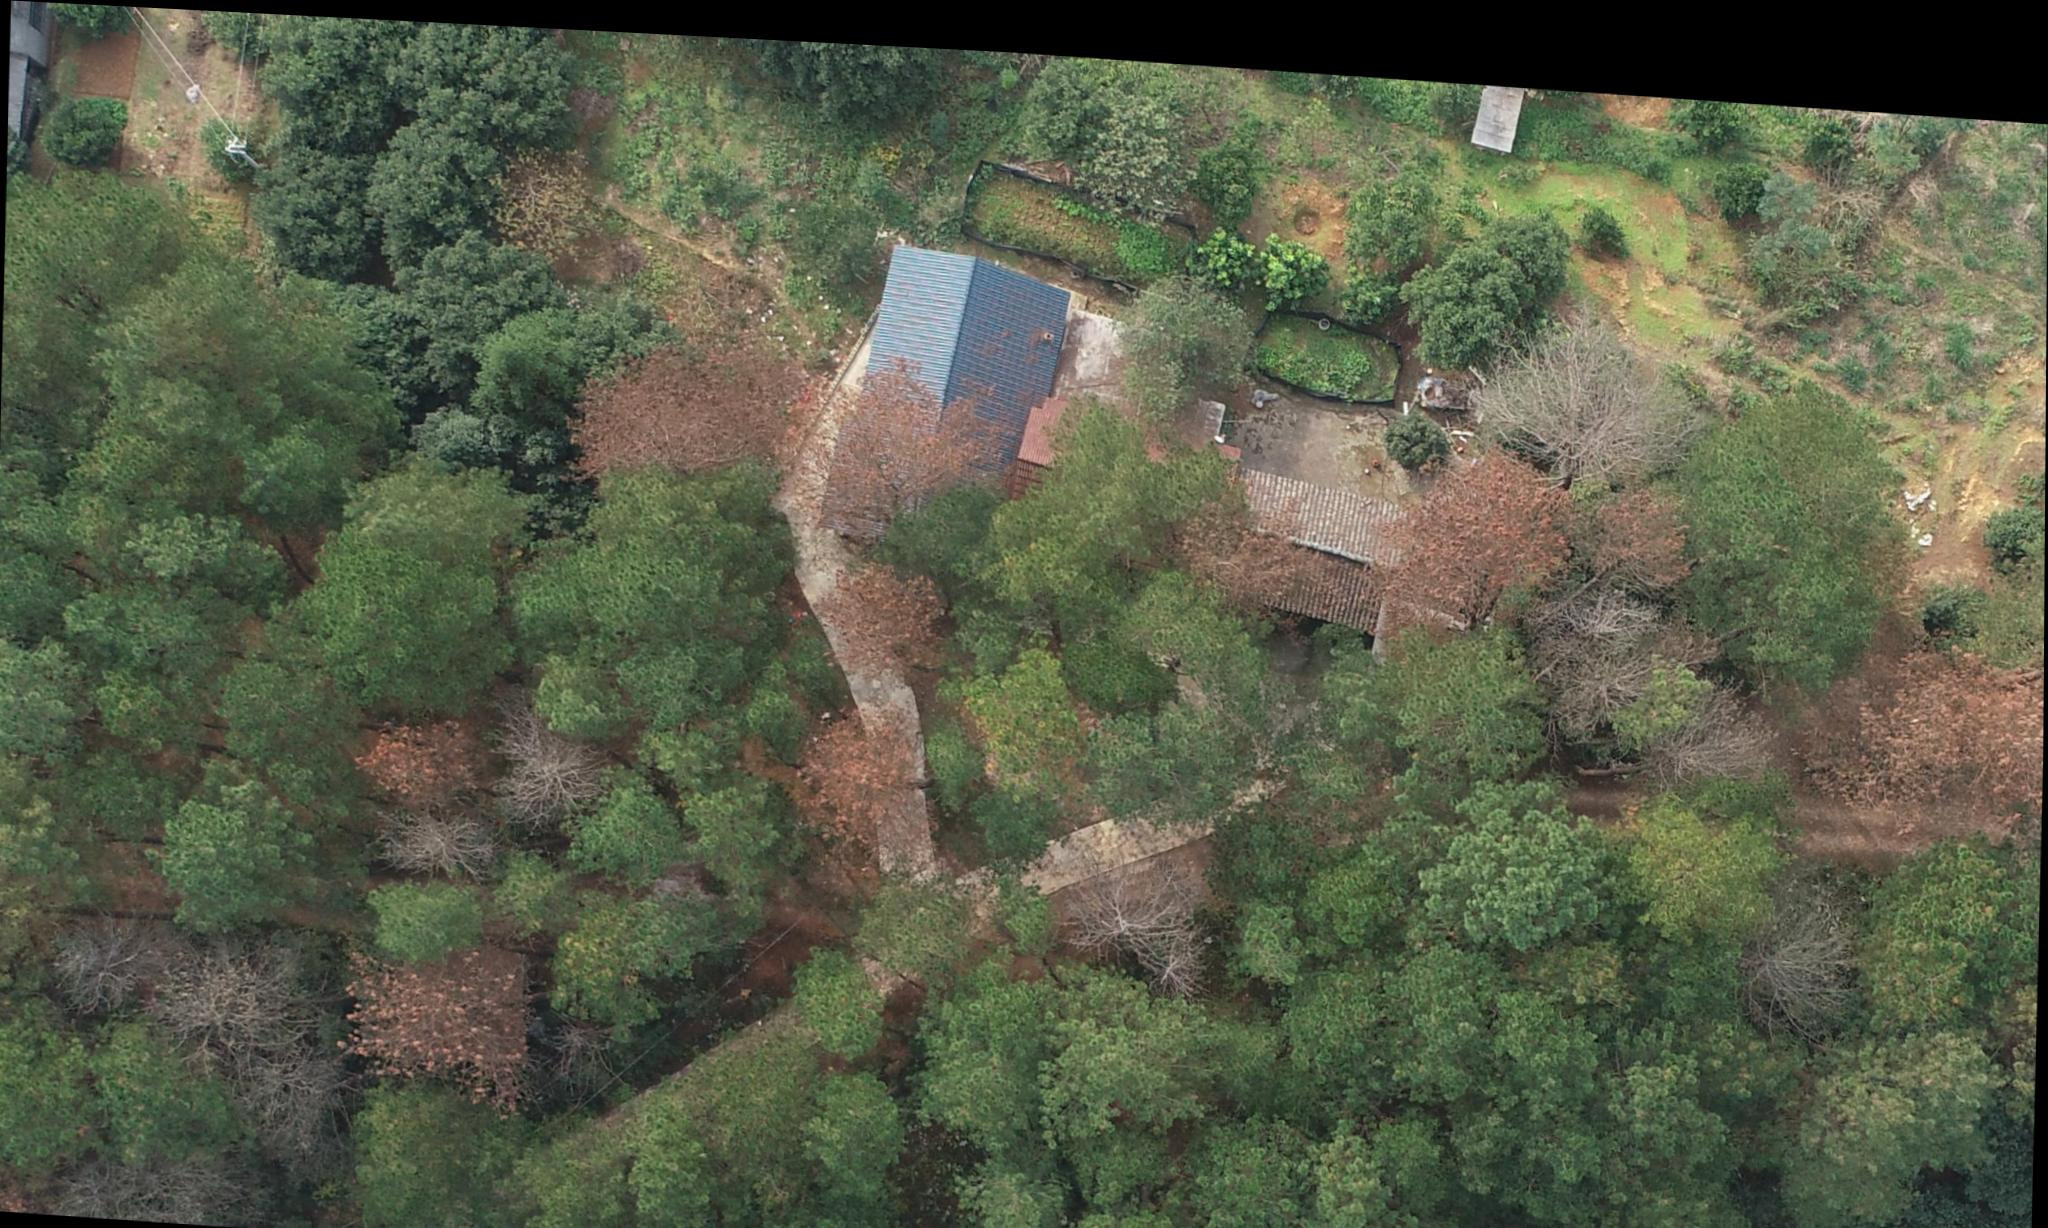dead: (1476, 310, 1675, 453), (1532, 577, 1647, 709), (168, 963, 325, 1054), (1741, 898, 1851, 1022), (67, 1165, 270, 1227), (501, 724, 610, 825), (45, 928, 153, 1007), (250, 1061, 345, 1146), (370, 817, 503, 876)
heavy: (573, 322, 800, 490), (813, 367, 1006, 538), (1874, 639, 2045, 817), (1380, 437, 1564, 602), (765, 709, 952, 861), (354, 958, 531, 1085), (817, 556, 953, 671), (346, 703, 469, 804)
